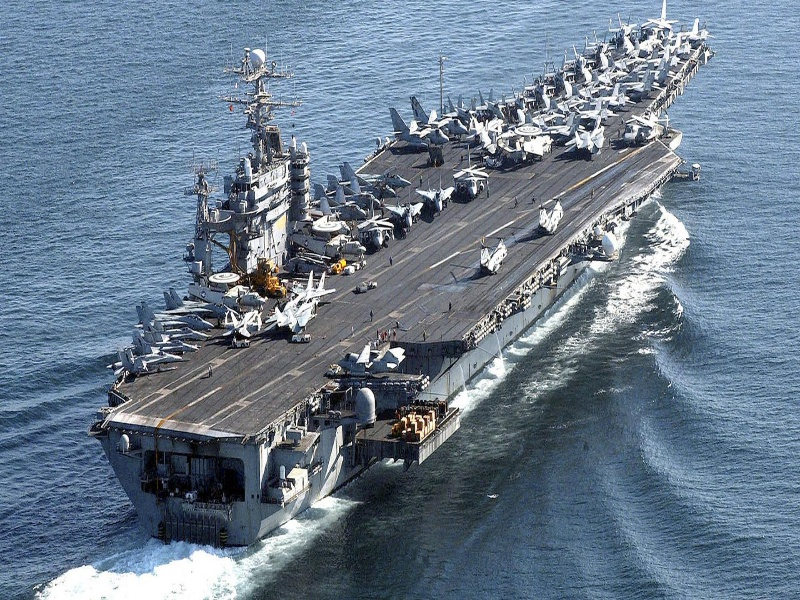carrier: (115, 32, 702, 519)
